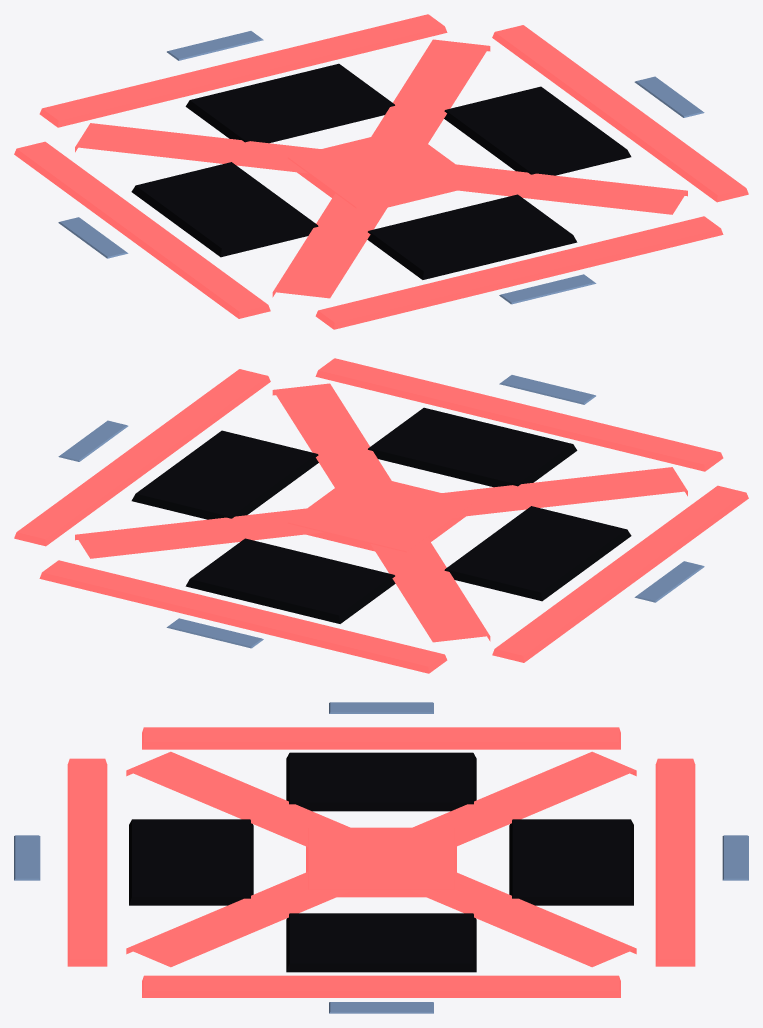
Rendered from SM_ArenaTile_Overlay_06_RingCollapse.glb.
The picture shows the model from 3 angles, top to bottom: view 1: azimuth 30°, elevation 25°; view 2: azimuth 150°, elevation 25°; view 3: azimuth 270°, elevation 25°; orthographic projection. The views are drawn at different scales.
Parts seen in each view (by area): view 1: Part_EMI_DangerRed, Part_MAT_DarkNeutral, Part_MAT_LightTrim; view 2: Part_EMI_DangerRed, Part_MAT_DarkNeutral, Part_MAT_LightTrim; view 3: Part_EMI_DangerRed, Part_MAT_DarkNeutral, Part_MAT_LightTrim.
Part boxes in pixels (box(x1,y1,x2,y2)): Part_EMI_DangerRed: box(14, 14, 748, 329); Part_MAT_DarkNeutral: box(131, 63, 631, 279); Part_MAT_LightTrim: box(58, 31, 704, 304); Part_EMI_DangerRed: box(14, 358, 748, 673); Part_MAT_DarkNeutral: box(131, 407, 631, 623); Part_MAT_LightTrim: box(58, 375, 704, 648); Part_EMI_DangerRed: box(67, 727, 695, 997); Part_MAT_DarkNeutral: box(129, 752, 633, 972); Part_MAT_LightTrim: box(14, 702, 748, 1013).
Size of the model in its own units: 11.2 by 0.14 by 11.2.
Materials: 3 (3 with a texture image).
